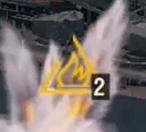2fire: (37, 60, 112, 100)
